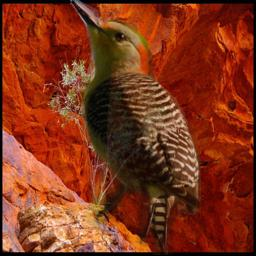Woodpecker: (70, 0, 201, 255)
